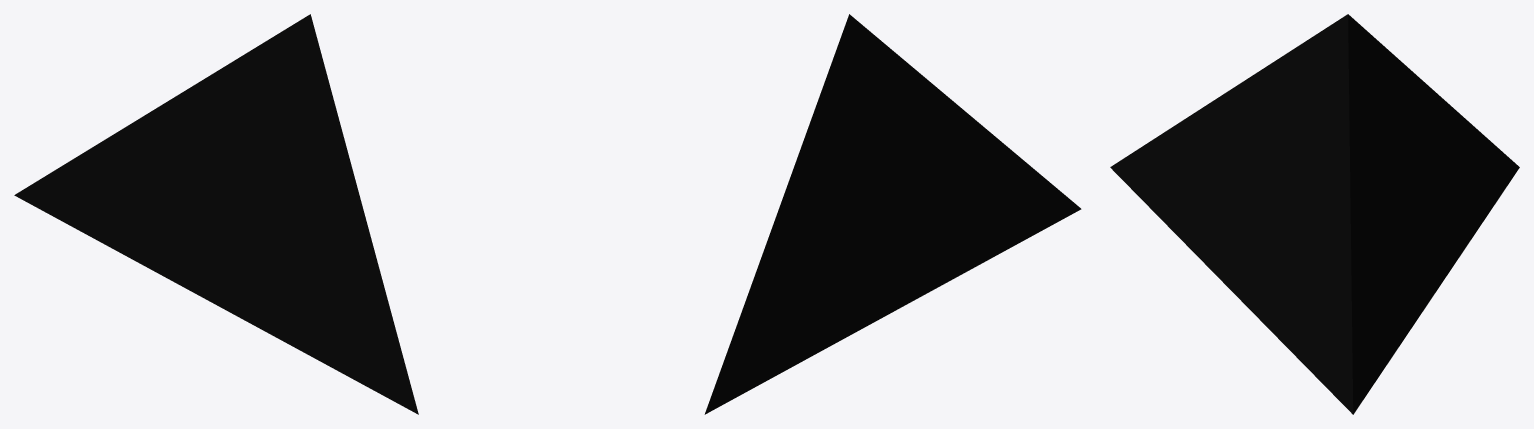
3 renders of one model, left to right at view 1: azimuth 30°, elevation 25°; view 2: azimuth 150°, elevation 25°; view 3: azimuth 270°, elevation 25°, orthographic. The views are drawn at different scales.
Size of the model in its own units: 0.0107 by 0.00806 by 0.0121.
Materials: 1 (1 with a texture image).
